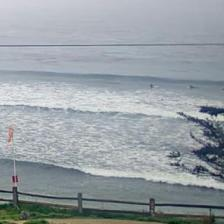surfer: (189, 85, 196, 89), (150, 84, 153, 88), (161, 98, 163, 101)
